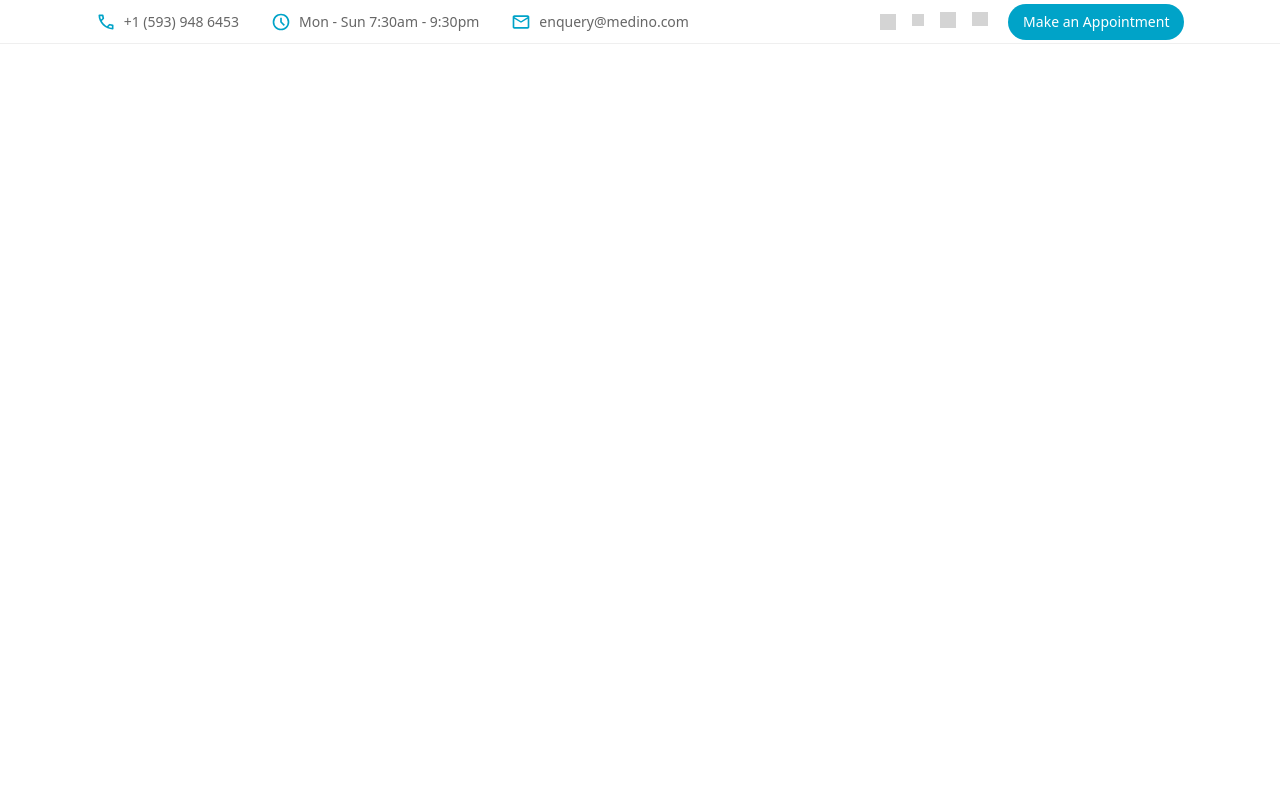
Scenario: Header Components › opens appointment modal when Make an Appointment is clicked
Click the button "Make an Appointment" at (1096, 22), box [1008,4,1184,40]
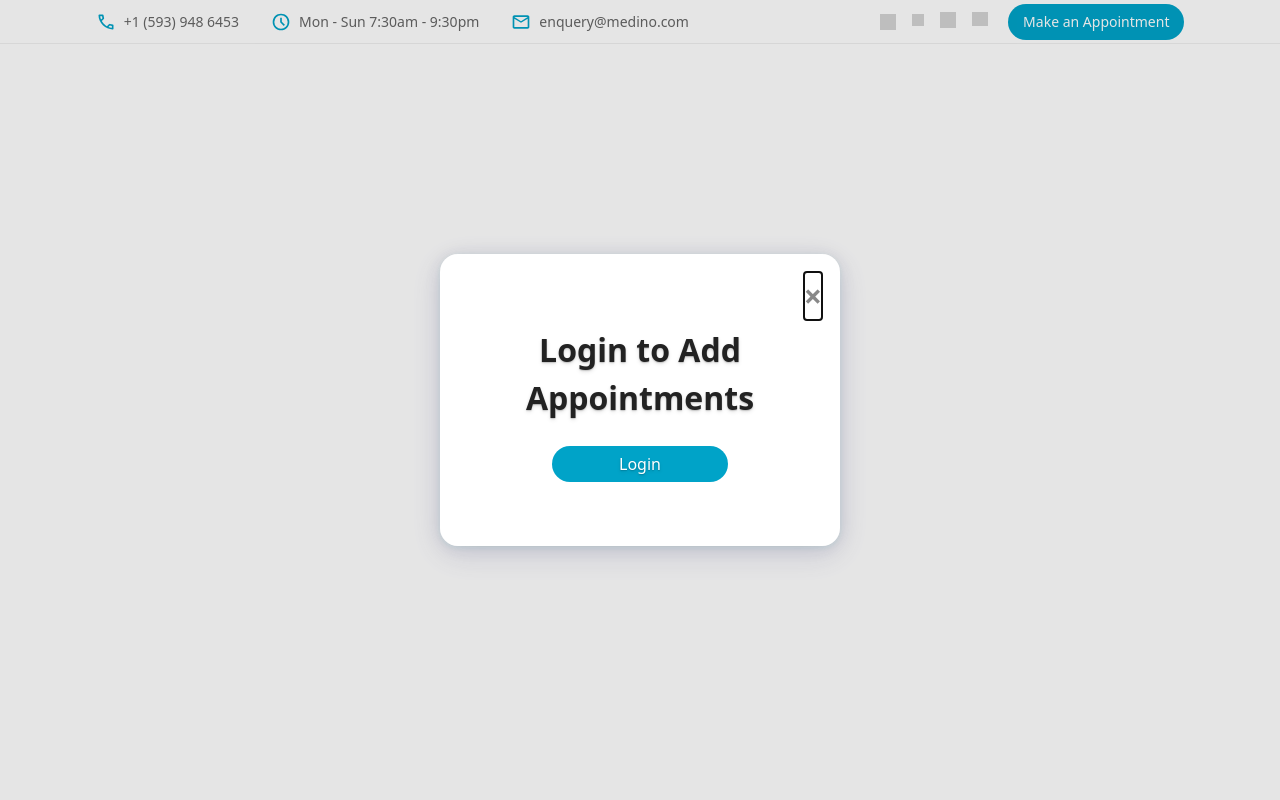
Expected: the text "Login to Add Appointments" is shown, [526,328,754,419]
